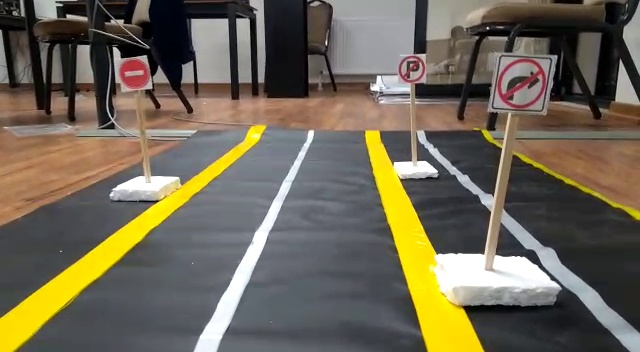girisi_olmayan_yol: (116, 56, 157, 89)
park_yapilmaz: (398, 53, 426, 82)
saga_donulmez: (491, 57, 551, 114)
